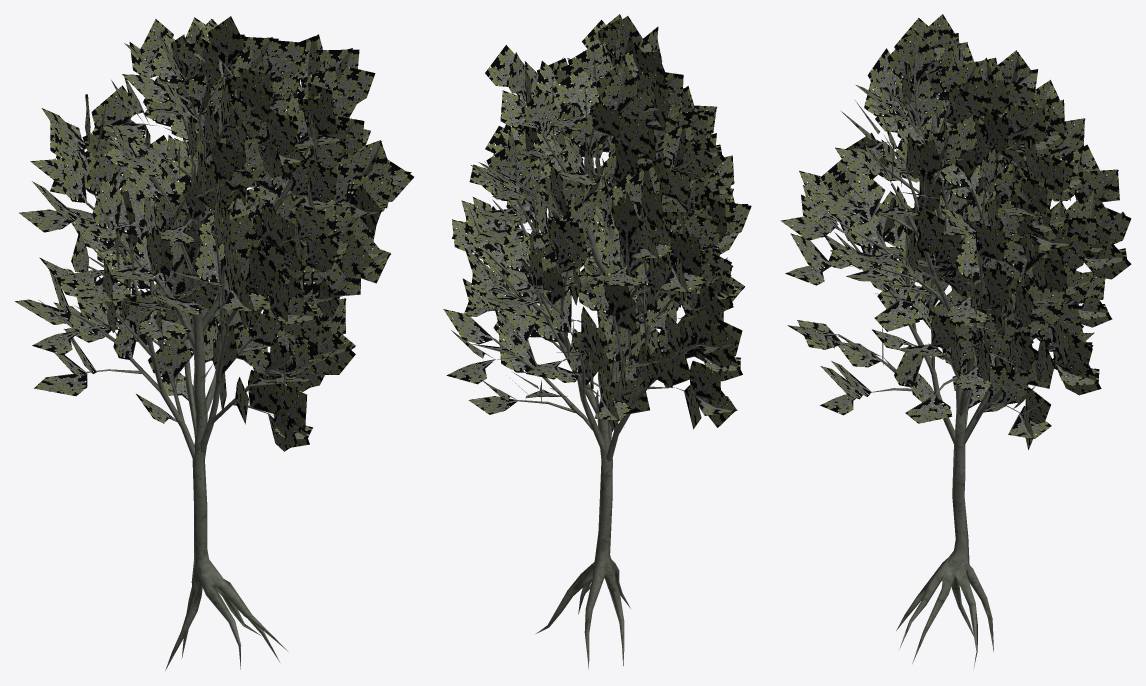
Rendered from american_beech_c.glb.
3 renders of one model, left to right at view 1: azimuth 30°, elevation 25°; view 2: azimuth 150°, elevation 25°; view 3: azimuth 270°, elevation 25°, orthographic. The views are drawn at different scales.
Parts seen in each view (by area): view 1: american_beech_c_LOD0; view 2: american_beech_c_LOD0; view 3: american_beech_c_LOD0.
Part boxes in pixels (x1,y1,x2,y2): american_beech_c_LOD0: (15,16,413,670); american_beech_c_LOD0: (443,14,751,669); american_beech_c_LOD0: (781,14,1131,670).
Size of the model in its own units: 15.2 by 29.61 by 14.84.
Materials: 1 (1 with a texture image).
